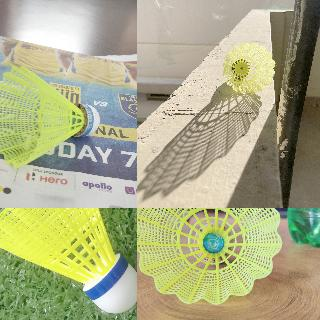shuttlecock: (0, 208, 136, 312), (137, 208, 284, 304), (0, 66, 100, 169), (223, 42, 275, 94)
